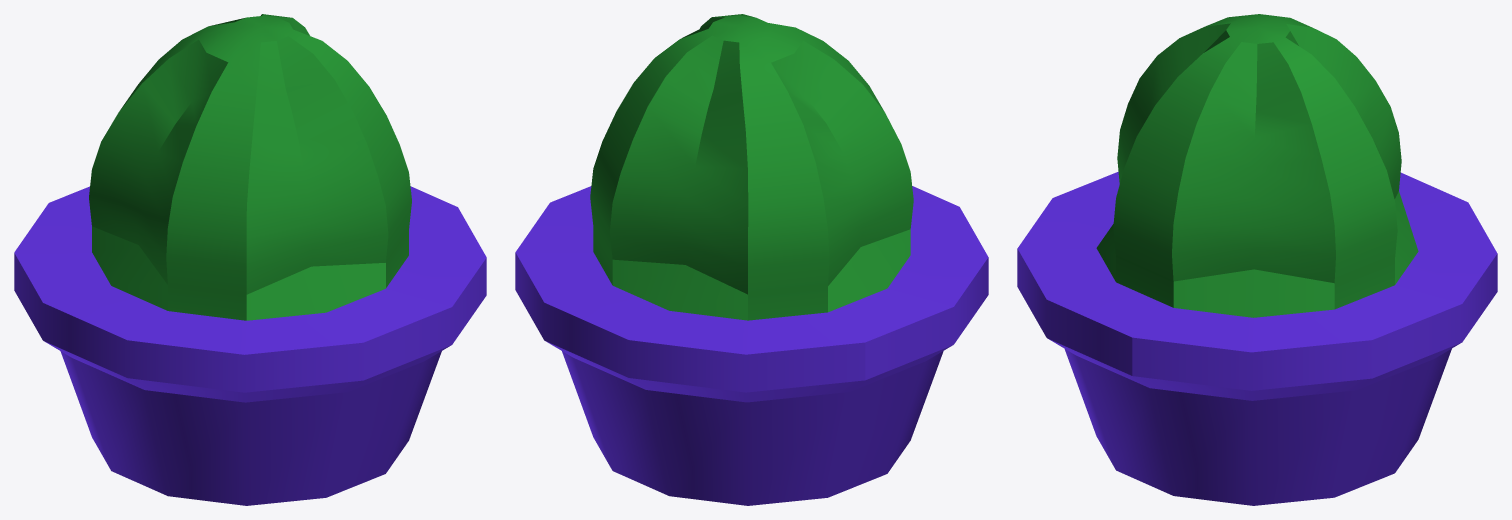
The model's file is cactus.fbx.
3 views of the same model, side by side, from view 1: azimuth 30°, elevation 25°; view 2: azimuth 150°, elevation 25°; view 3: azimuth 270°, elevation 25° (orthographic).
Visible parts, largest first — view 1: cactus.001; view 2: cactus.001; view 3: cactus.001.
Part boxes in pixels (x1=…): cactus.001: x1=14, y1=14, x2=486, y2=505; cactus.001: x1=515, y1=14, x2=988, y2=505; cactus.001: x1=1017, y1=14, x2=1497, y2=505.
Size of the model in its own units: 27.97 by 26.74 by 27.97.
